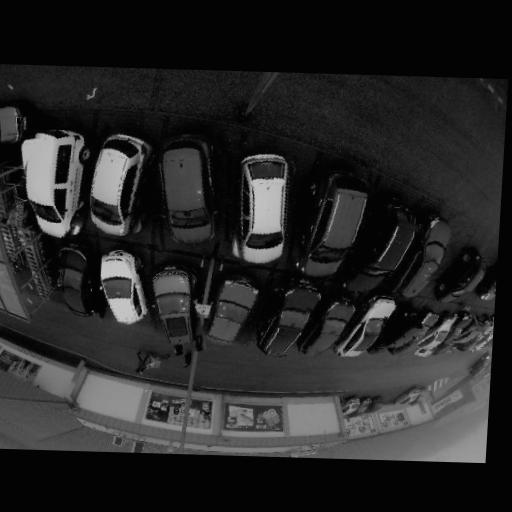busy: (221, 140, 313, 269), (142, 127, 235, 251), (12, 116, 101, 240), (290, 168, 383, 279), (76, 125, 161, 240), (349, 198, 424, 290), (142, 258, 206, 359), (387, 216, 458, 301), (256, 279, 327, 358), (89, 249, 151, 327), (205, 272, 264, 349), (342, 292, 397, 357), (52, 244, 102, 314), (301, 292, 355, 355), (435, 250, 491, 303), (380, 304, 433, 356), (418, 310, 462, 355), (447, 310, 484, 351), (0, 101, 30, 146), (469, 316, 494, 348), (479, 266, 497, 301)
free: (426, 247, 462, 285)
